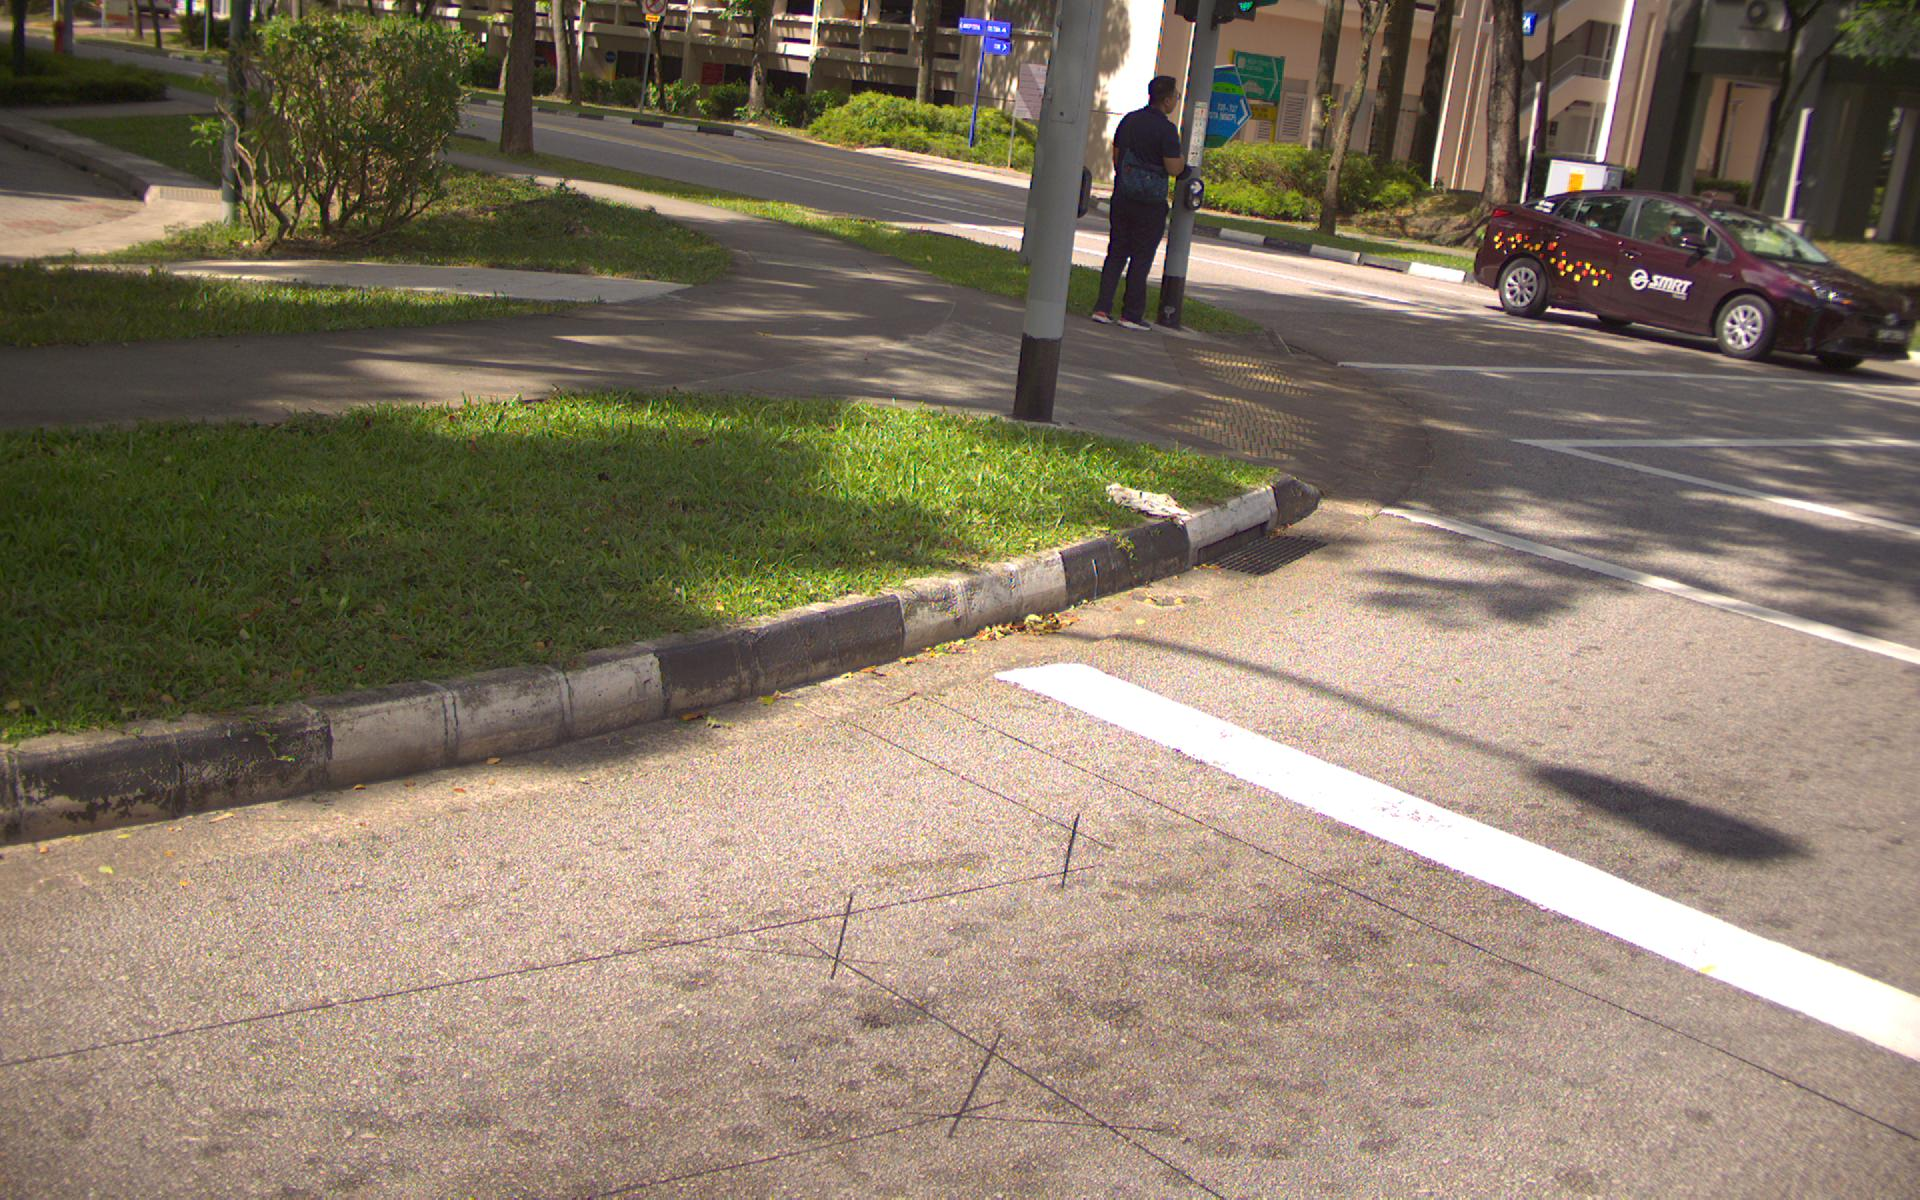curb_dic_low: (1167, 500, 1360, 594)
pathway_low: (6, 348, 806, 379)
road_turf_low: (12, 431, 710, 635)
